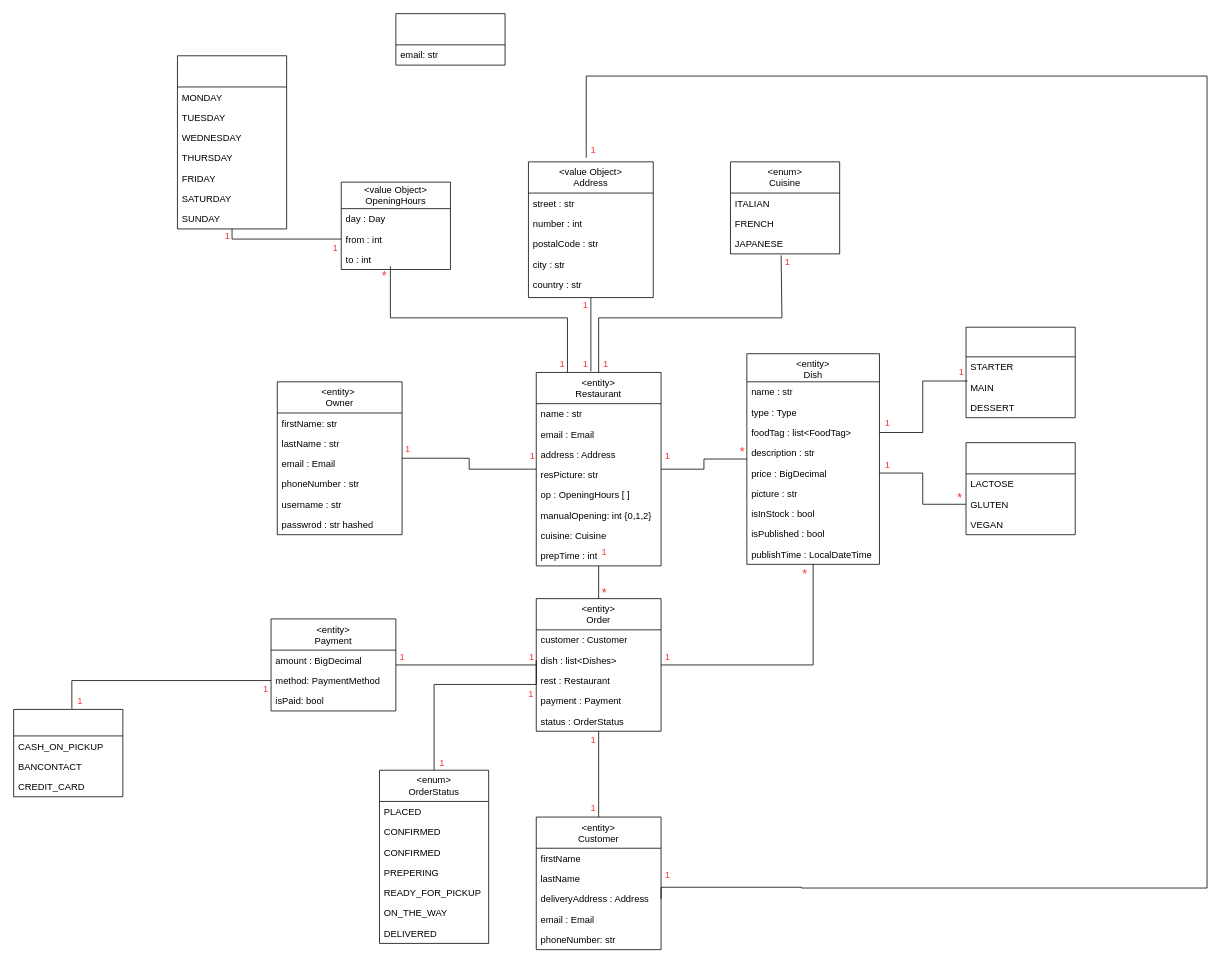
This 1221x966 diagram has some shape labels left out. The shapes that lost their labels are listed below. From the top down, each one's box as (x1, y1, x2, y2) in pixels, then its label:
(395, 13, 505, 65): <valueObject > Email
(177, 55, 287, 229): <enum> Day
(965, 326, 1075, 418): <enum> Type
(965, 442, 1075, 535): <enum> FoodTag
(13, 709, 123, 797): <enum> PaymentMethod
